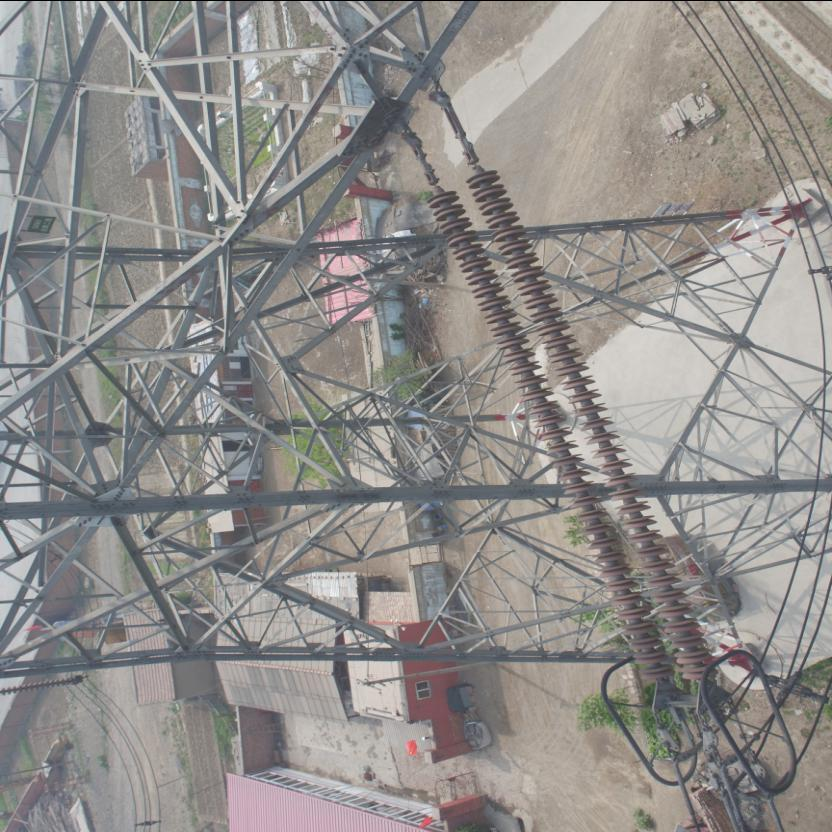insulator: (420, 142, 718, 690)
